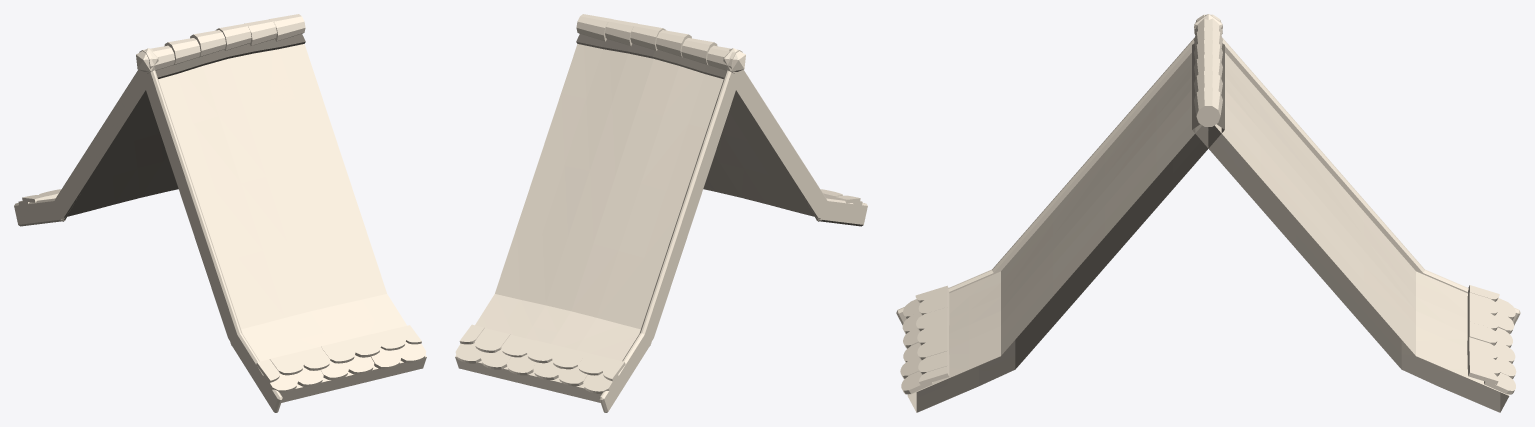
The model's file is SM_VK_Roof_Mid_CapL.fbx.
3 views of the same model, side by side, from view 1: azimuth 30°, elevation 25°; view 2: azimuth 150°, elevation 25°; view 3: azimuth 270°, elevation 25° (orthographic). The views are drawn at different scales.
Visible parts, largest first — view 1: SM_VK_Roof_Mid_CapL.001; view 2: SM_VK_Roof_Mid_CapL.001; view 3: SM_VK_Roof_Mid_CapL.001.
Part boxes in pixels (x1,y1,x2,y2): SM_VK_Roof_Mid_CapL.001: (14, 14, 426, 412); SM_VK_Roof_Mid_CapL.001: (455, 14, 867, 412); SM_VK_Roof_Mid_CapL.001: (896, 14, 1520, 412).
Bounding box in the file's own units: 3.19 × 5.1 × 9.02.
